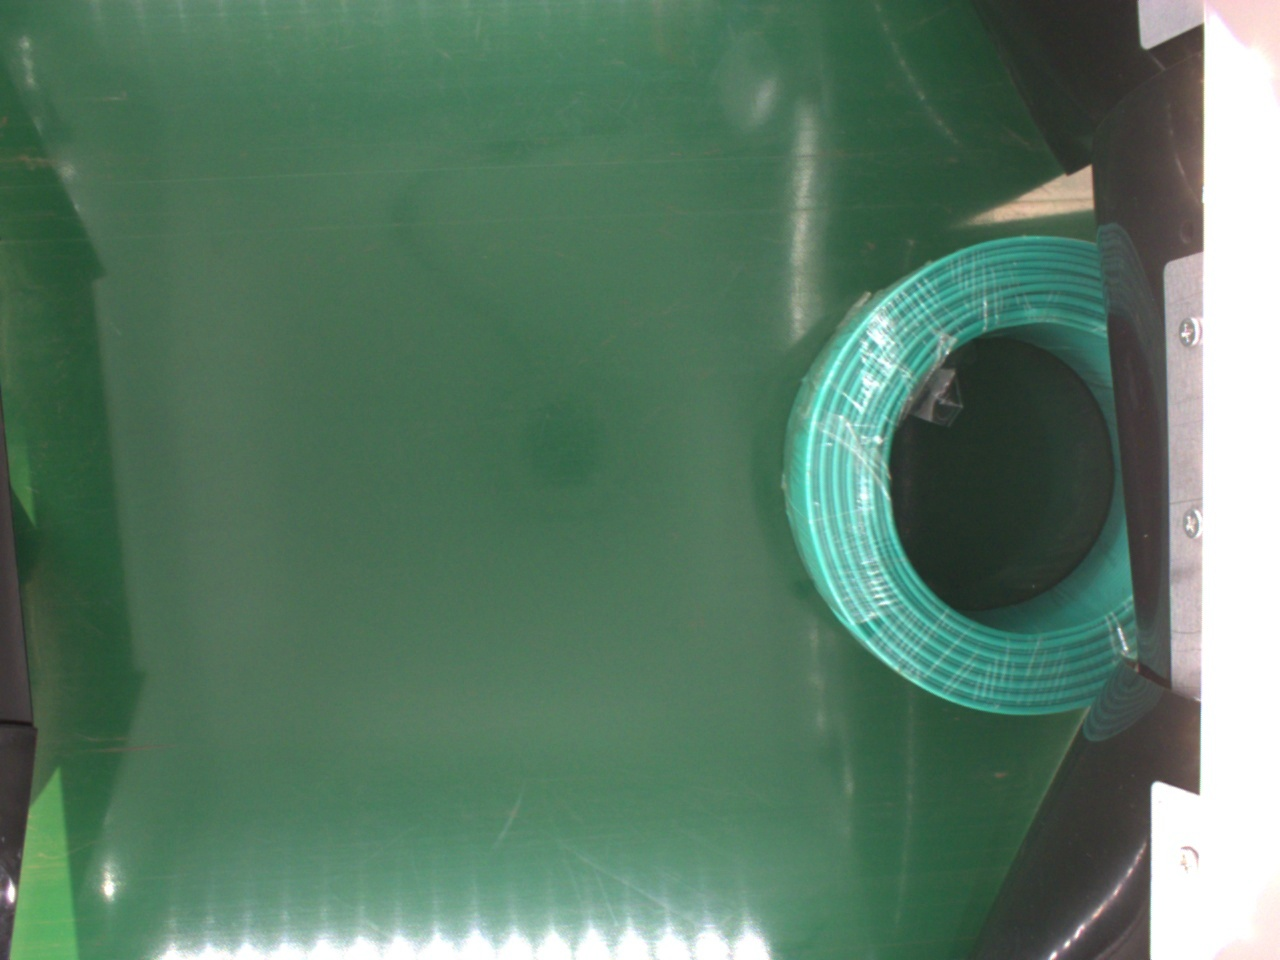green: (785, 230, 1141, 719)
